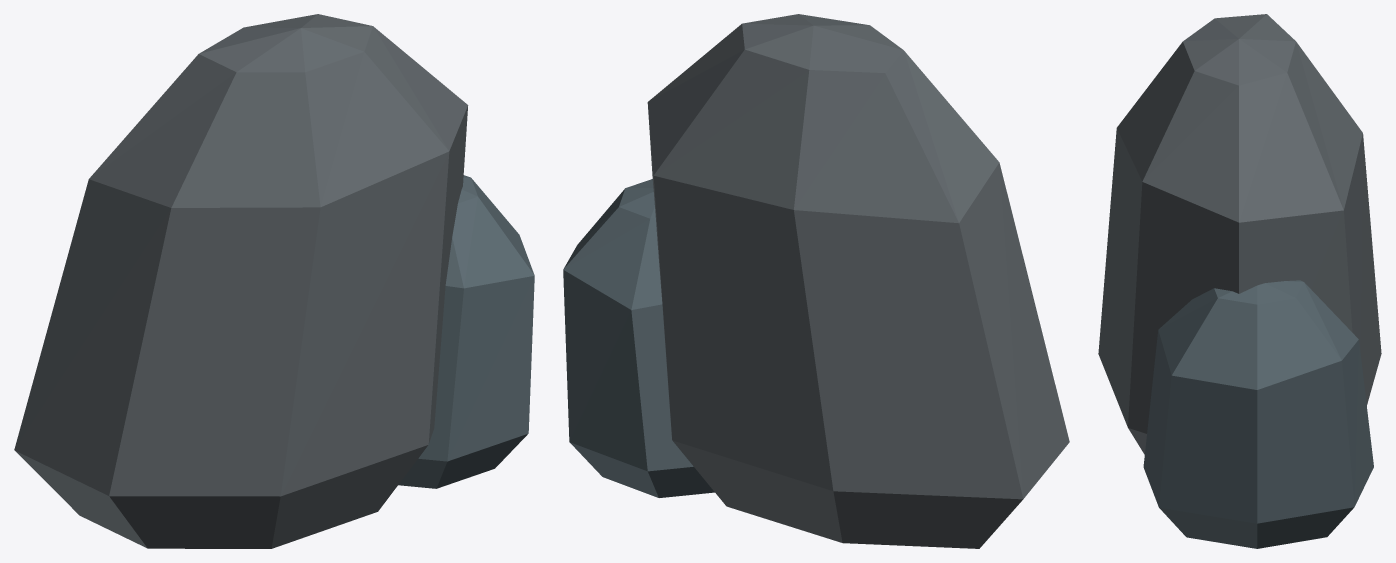
3 renders of one model, left to right at view 1: azimuth 30°, elevation 25°; view 2: azimuth 150°, elevation 25°; view 3: azimuth 270°, elevation 25°, orthographic. The views are drawn at different scales.
Visible parts, largest first — view 1: R12_灰蓝群峰; view 2: R12_灰蓝群峰; view 3: R12_灰蓝群峰.
Boxes of the visible parts, box(x1,y1,x2,y2) form: R12_灰蓝群峰: box(14, 14, 534, 548); R12_灰蓝群峰: box(563, 14, 1069, 548); R12_灰蓝群峰: box(1098, 14, 1381, 548).
Bounding box in the file's own units: 1.4 × 1.29 × 0.7828.
